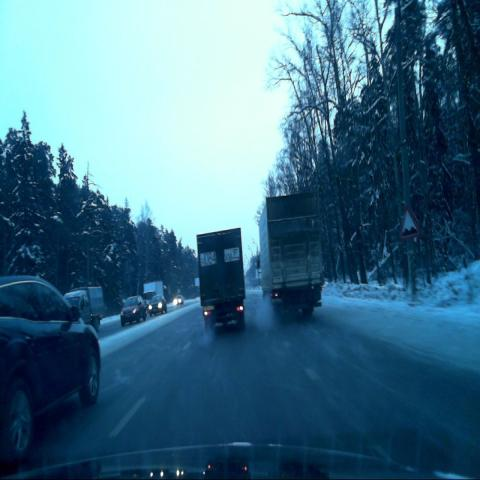1_16: (400, 206, 420, 240)
